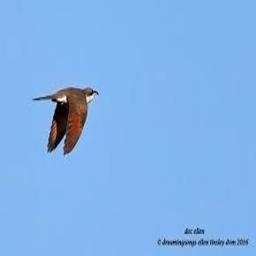Cuckoo: (31, 87, 98, 153)
